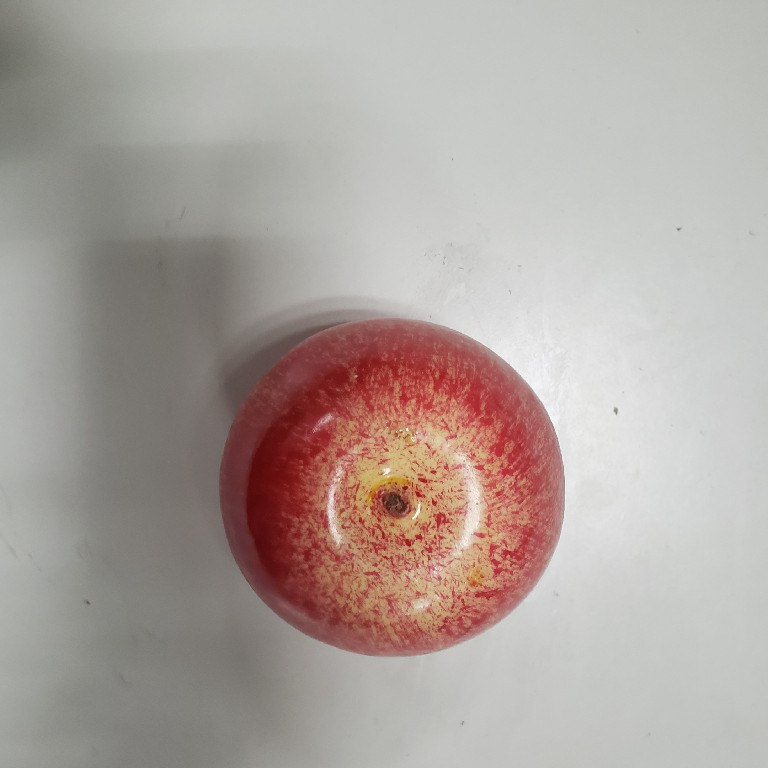fruit_apple: (211, 312, 571, 665)
